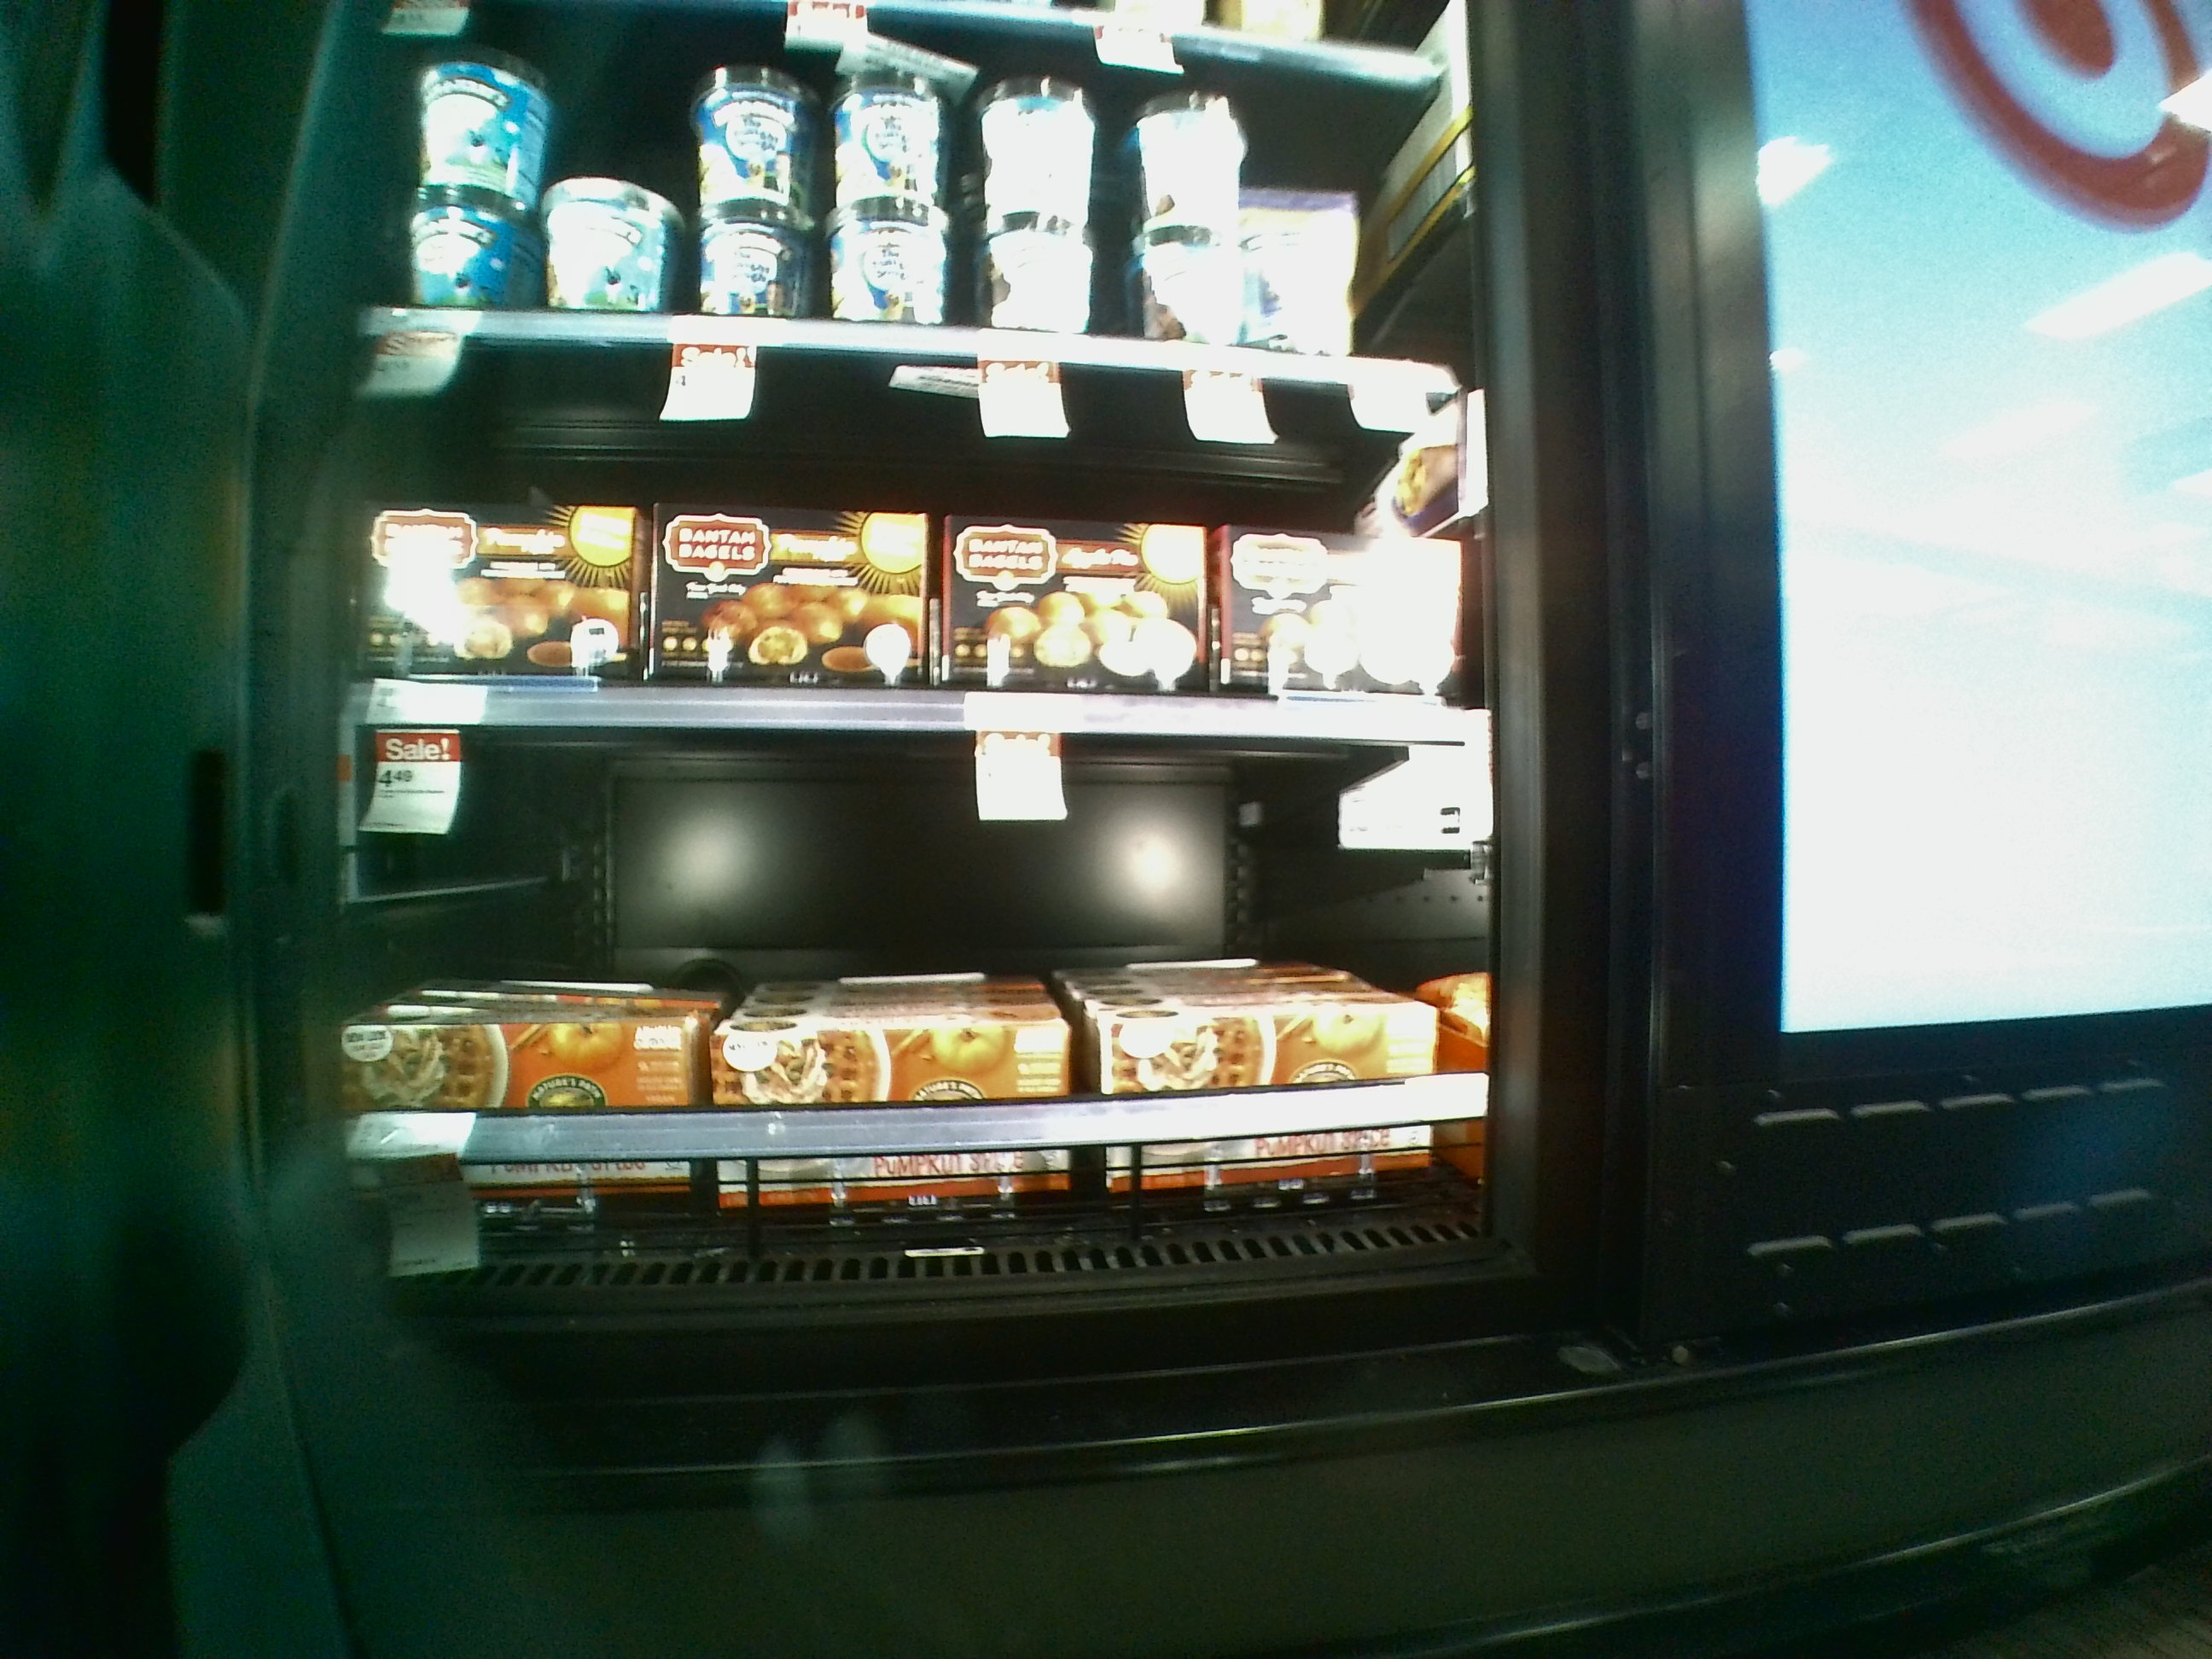shelf: (296, 706, 1484, 1316), (329, 321, 1508, 748)
